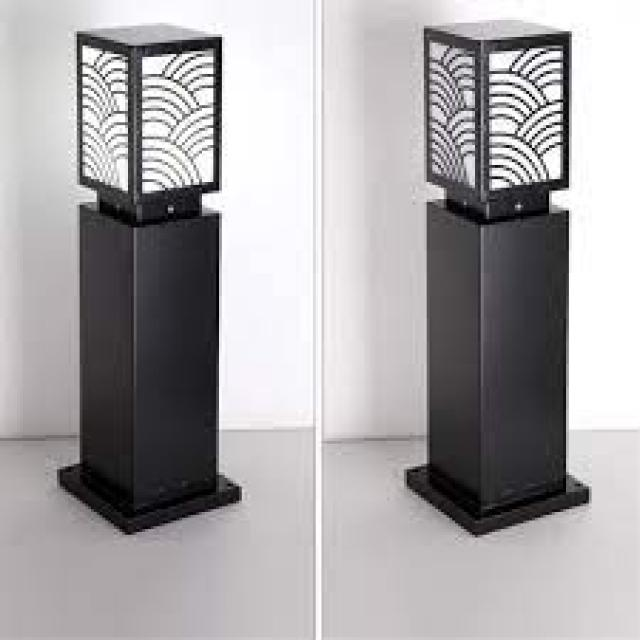bollard: (392, 4, 595, 546), (48, 24, 246, 537)
